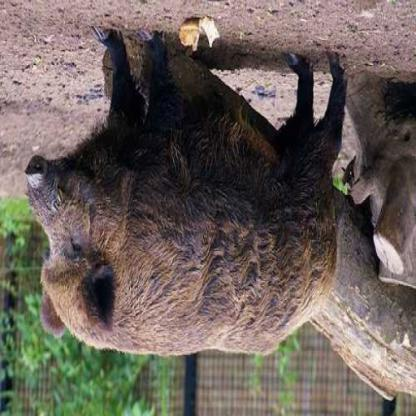boar: (6, 48, 363, 358)
